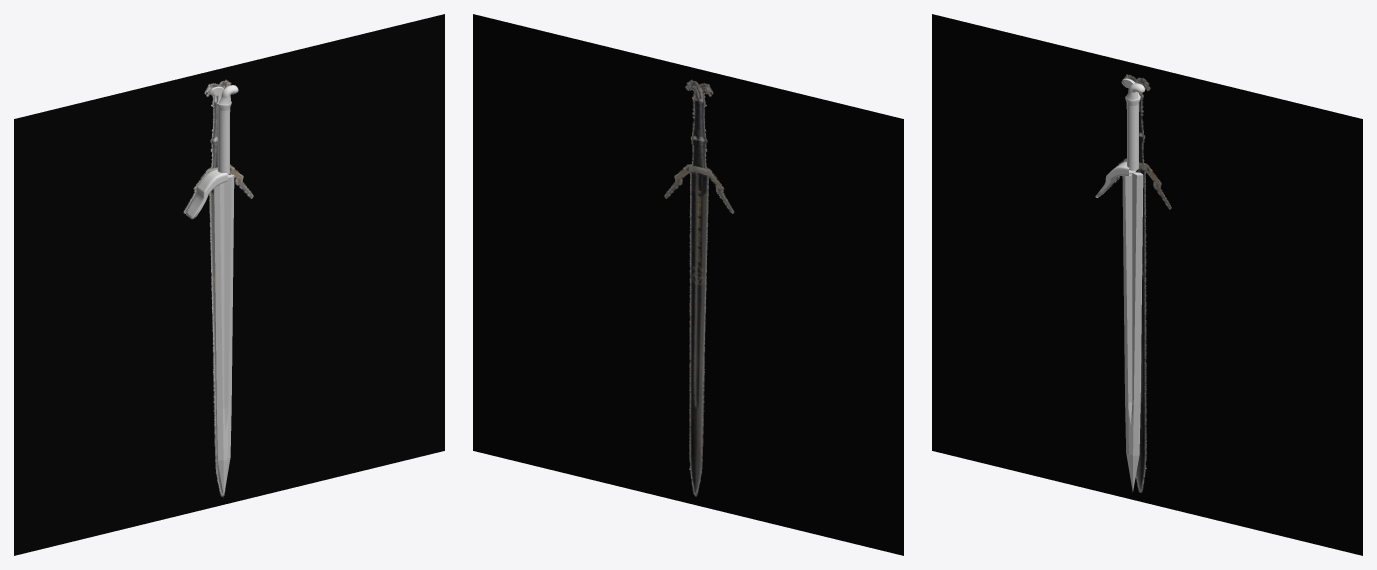
Rendered from CirisSwordFBXModel.FBX.
The picture shows the model from 3 angles, left to right: view 1: azimuth 30°, elevation 25°; view 2: azimuth 150°, elevation 25°; view 3: azimuth 330°, elevation 25°; orthographic projection.
Parts seen in each view (by area): view 1: ReferenceImage, Blade, Hilt, Guard; view 2: ReferenceImage; view 3: ReferenceImage, Blade, Hilt.
Part boxes in pixels (box(x1,y1,x2,y2)): ReferenceImage: box(14, 14, 444, 555); Blade: box(213, 174, 234, 497); Hilt: box(209, 85, 238, 174); Guard: box(186, 169, 227, 218); ReferenceImage: box(473, 14, 903, 555); ReferenceImage: box(932, 14, 1362, 555); Blade: box(1122, 170, 1143, 492); Hilt: box(1121, 78, 1144, 170).
Size of the model in its own units: 321 by 311 by 10.78.
Materials: 1 (1 with a texture image).
